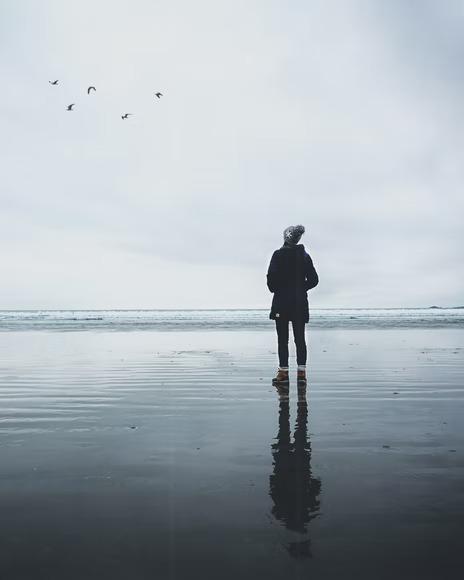person: (266, 225, 320, 386)
